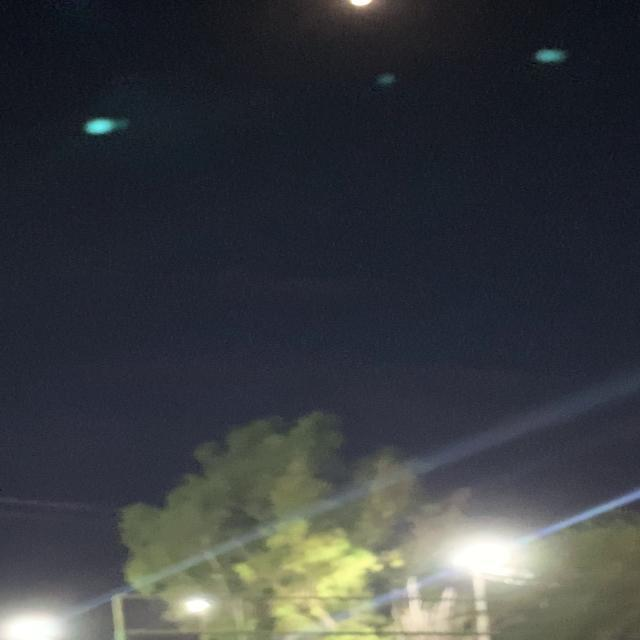moon: (332, 1, 395, 33)
